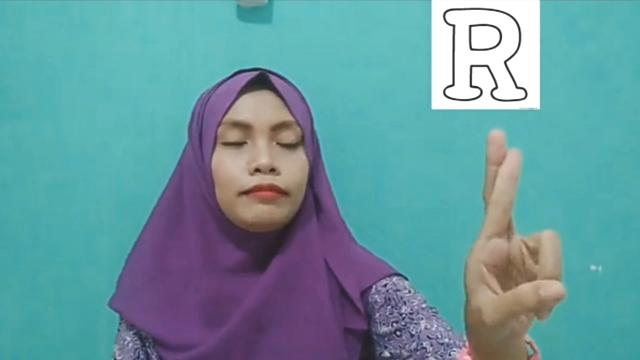R: (459, 123, 568, 341)
